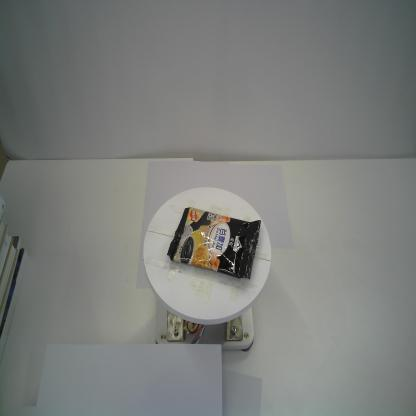Instant Drink: (166, 207, 262, 280)
